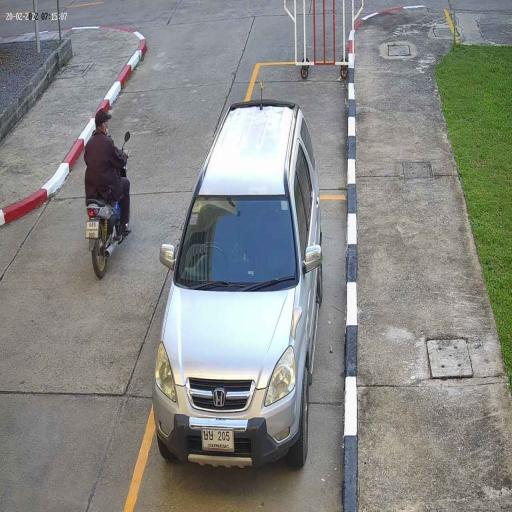car: (151, 99, 324, 474)
motorcycle: (84, 191, 132, 275)
